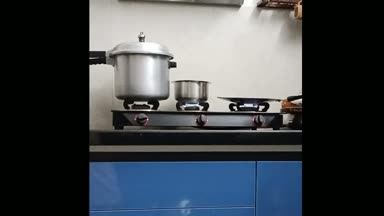flame_gas_off: (123, 100, 161, 127)
flame_gas_on: (174, 100, 214, 128), (233, 103, 272, 129)
